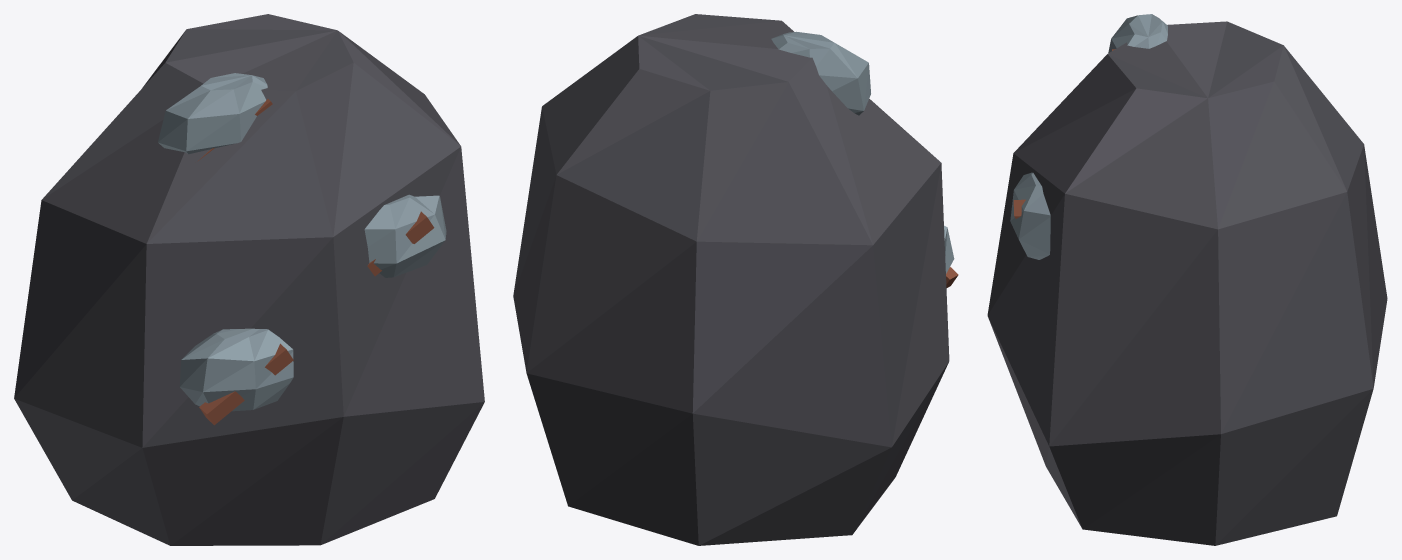
File: ore_iron.glb
3 renders of one model, left to right at view 1: azimuth 30°, elevation 25°; view 2: azimuth 150°, elevation 25°; view 3: azimuth 270°, elevation 25°, orthographic. The views are drawn at different scales.
Visible parts, largest first — view 1: geometry; view 2: geometry; view 3: geometry.
Boxes of the visible parts, x1,y1,x2,y2 form: geometry: [14, 14, 484, 545]; geometry: [513, 14, 958, 545]; geometry: [987, 14, 1387, 545].
Bounding box in the file's own units: 0.7001 × 0.71 × 0.6102.
